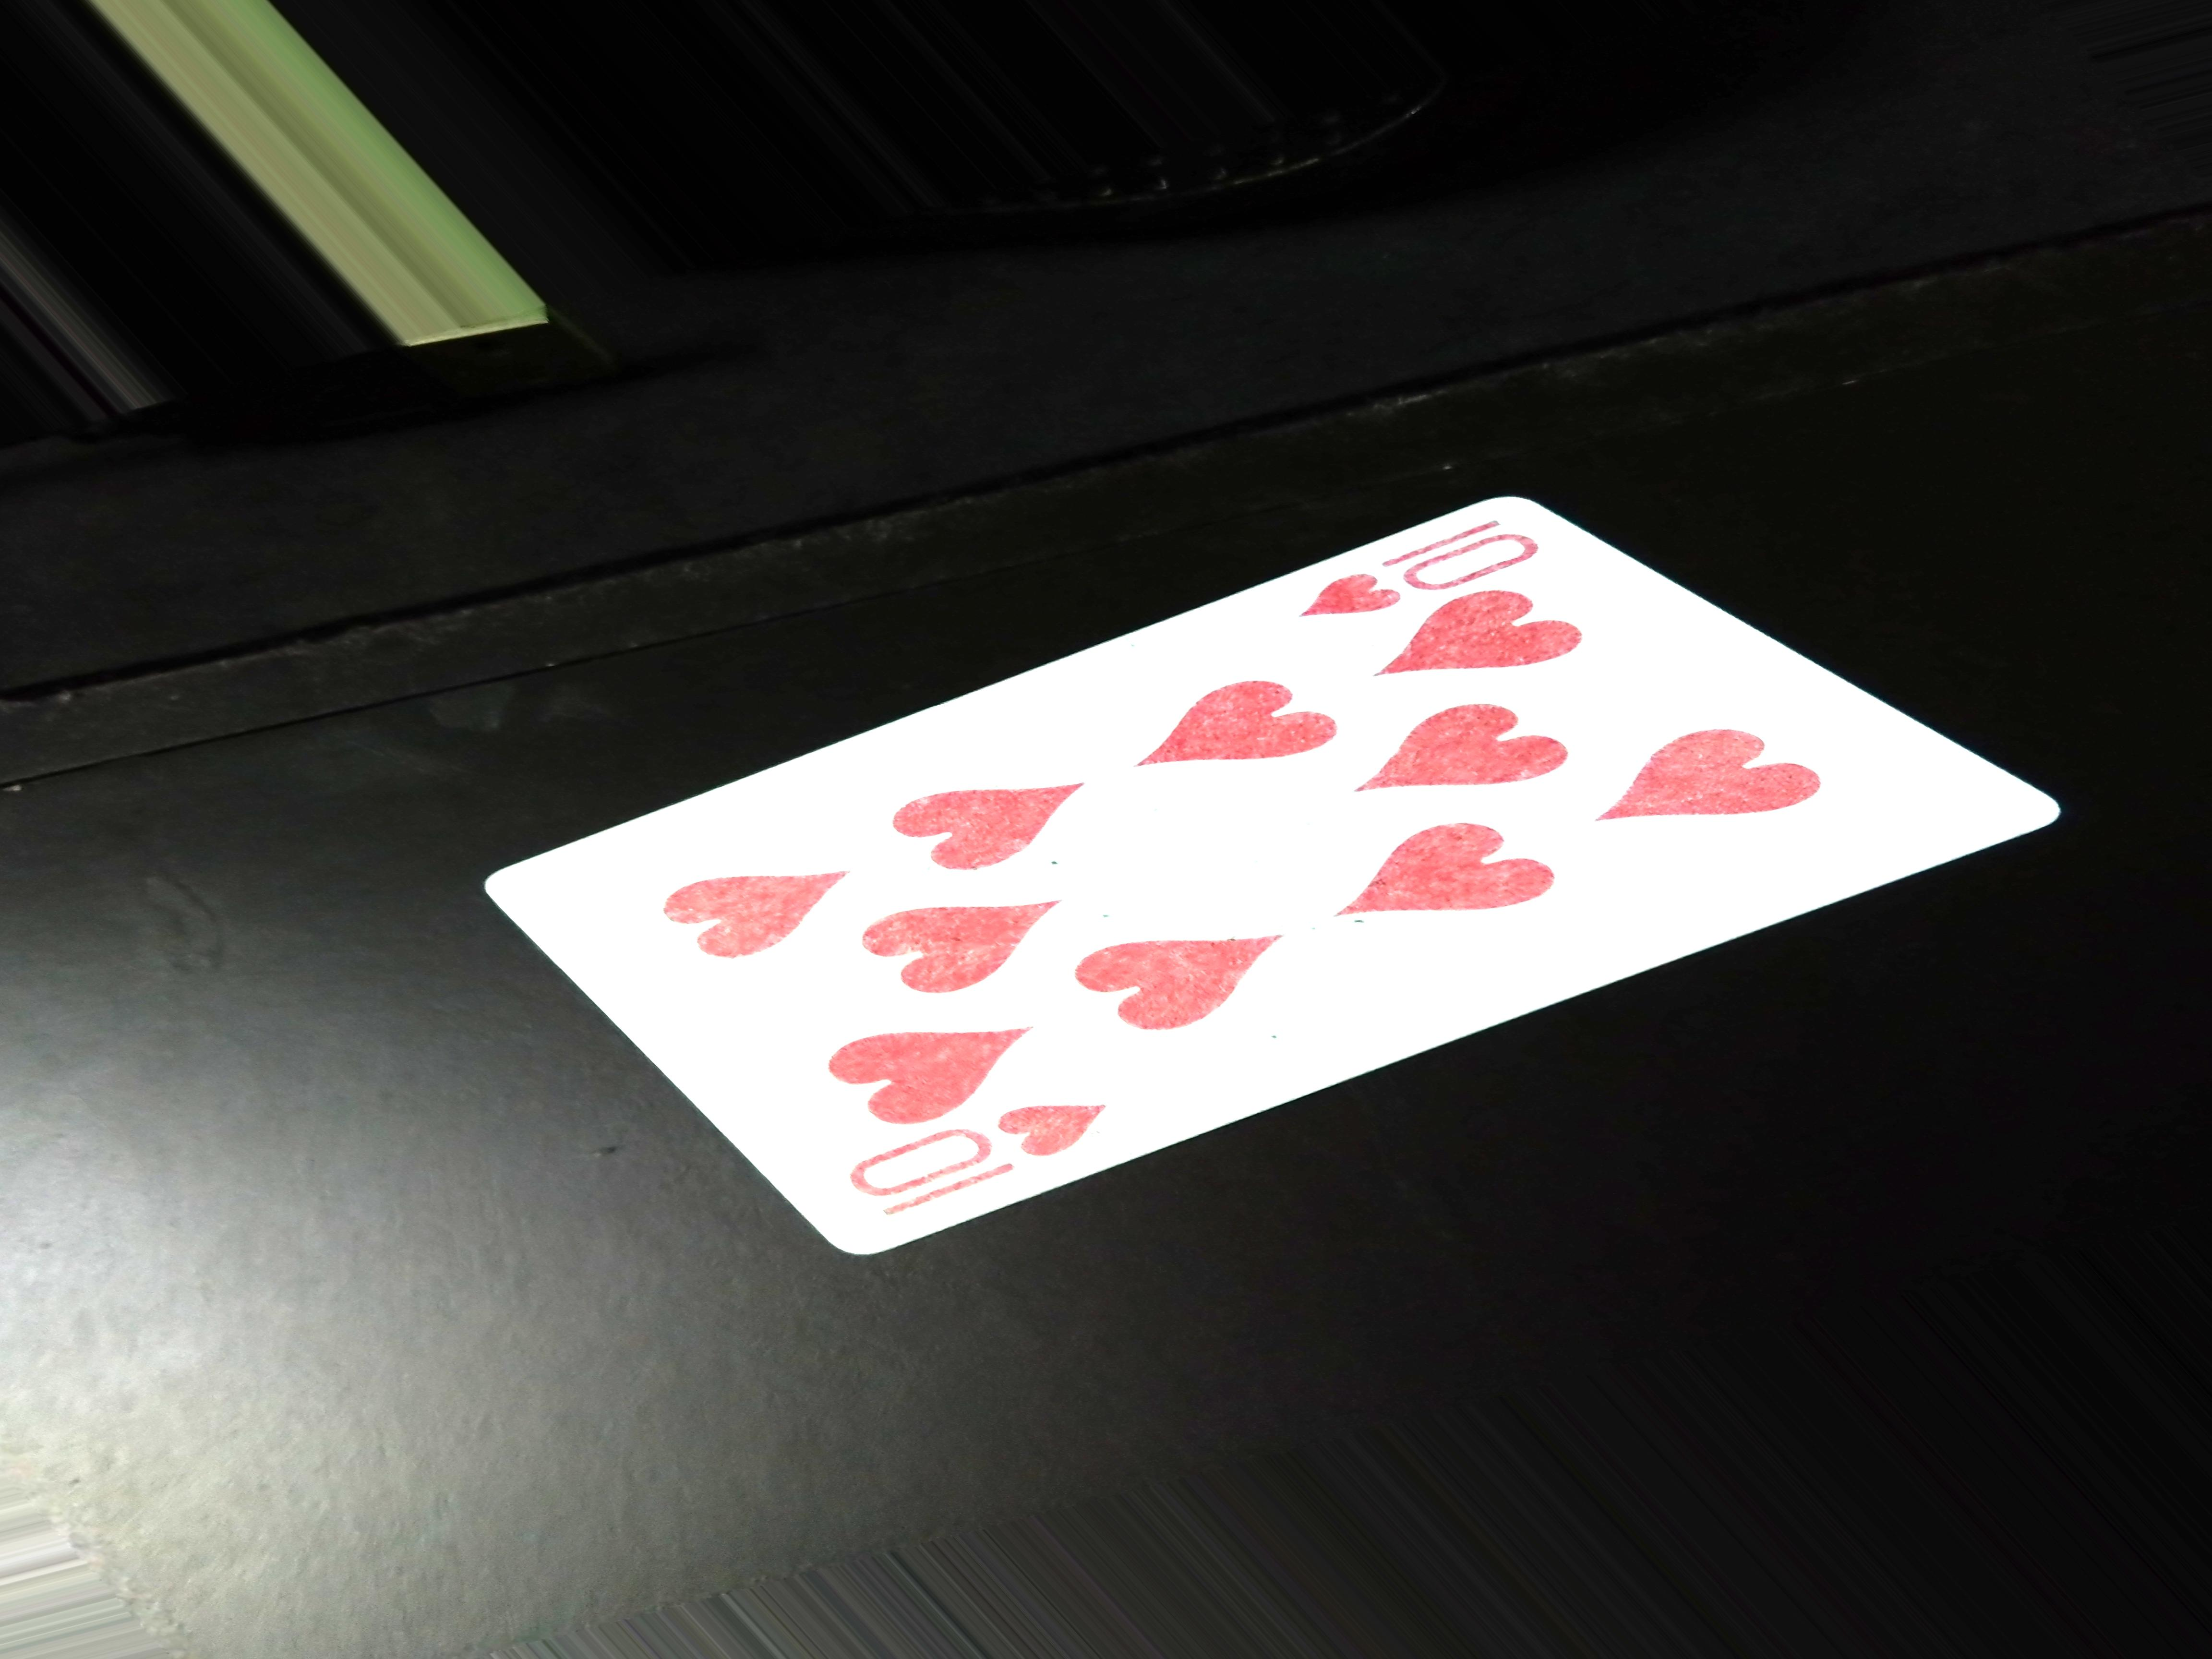10H: (1305, 511, 1526, 629)
